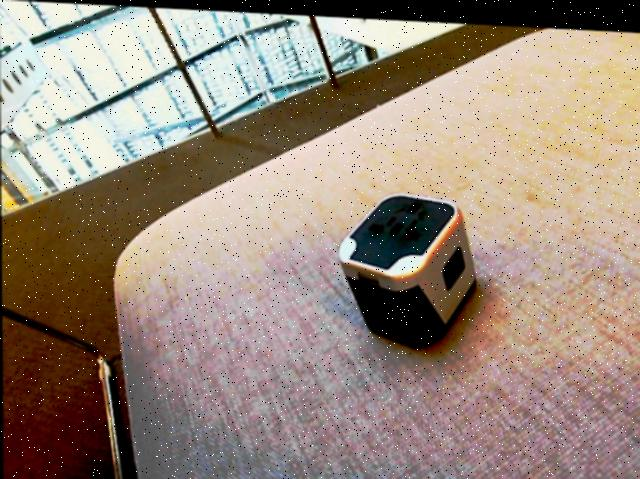adapter: (336, 185, 476, 346)
